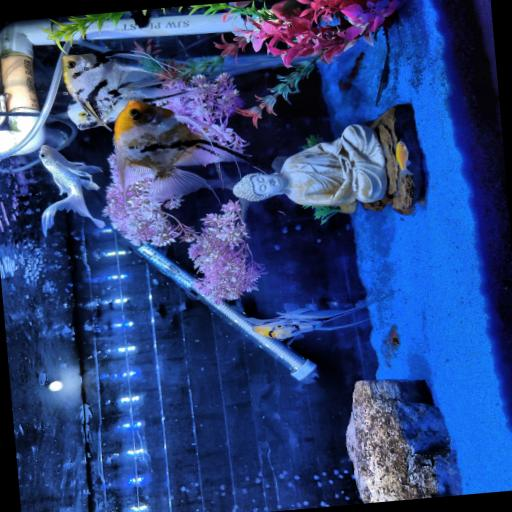Fish: (114, 100, 245, 201), (63, 50, 199, 128), (39, 144, 105, 234), (247, 302, 373, 343), (67, 101, 103, 129), (396, 141, 411, 175)
